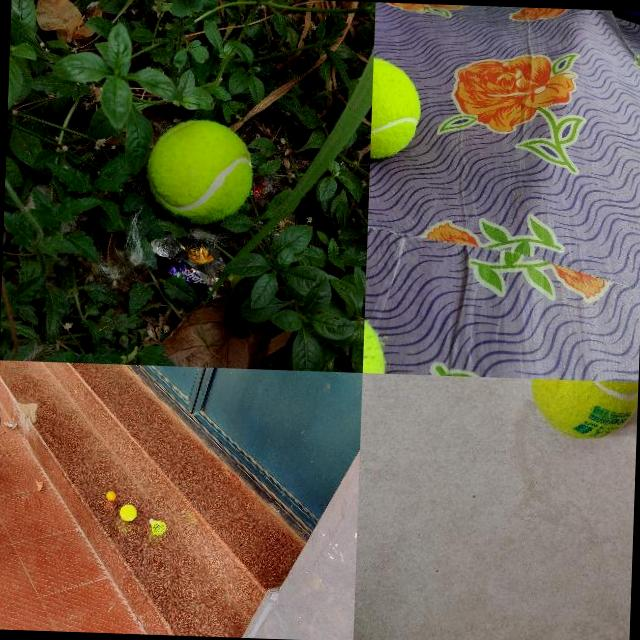Tennis Ball: (145, 118, 253, 225), (529, 378, 637, 442), (370, 56, 424, 160), (118, 503, 136, 520)
